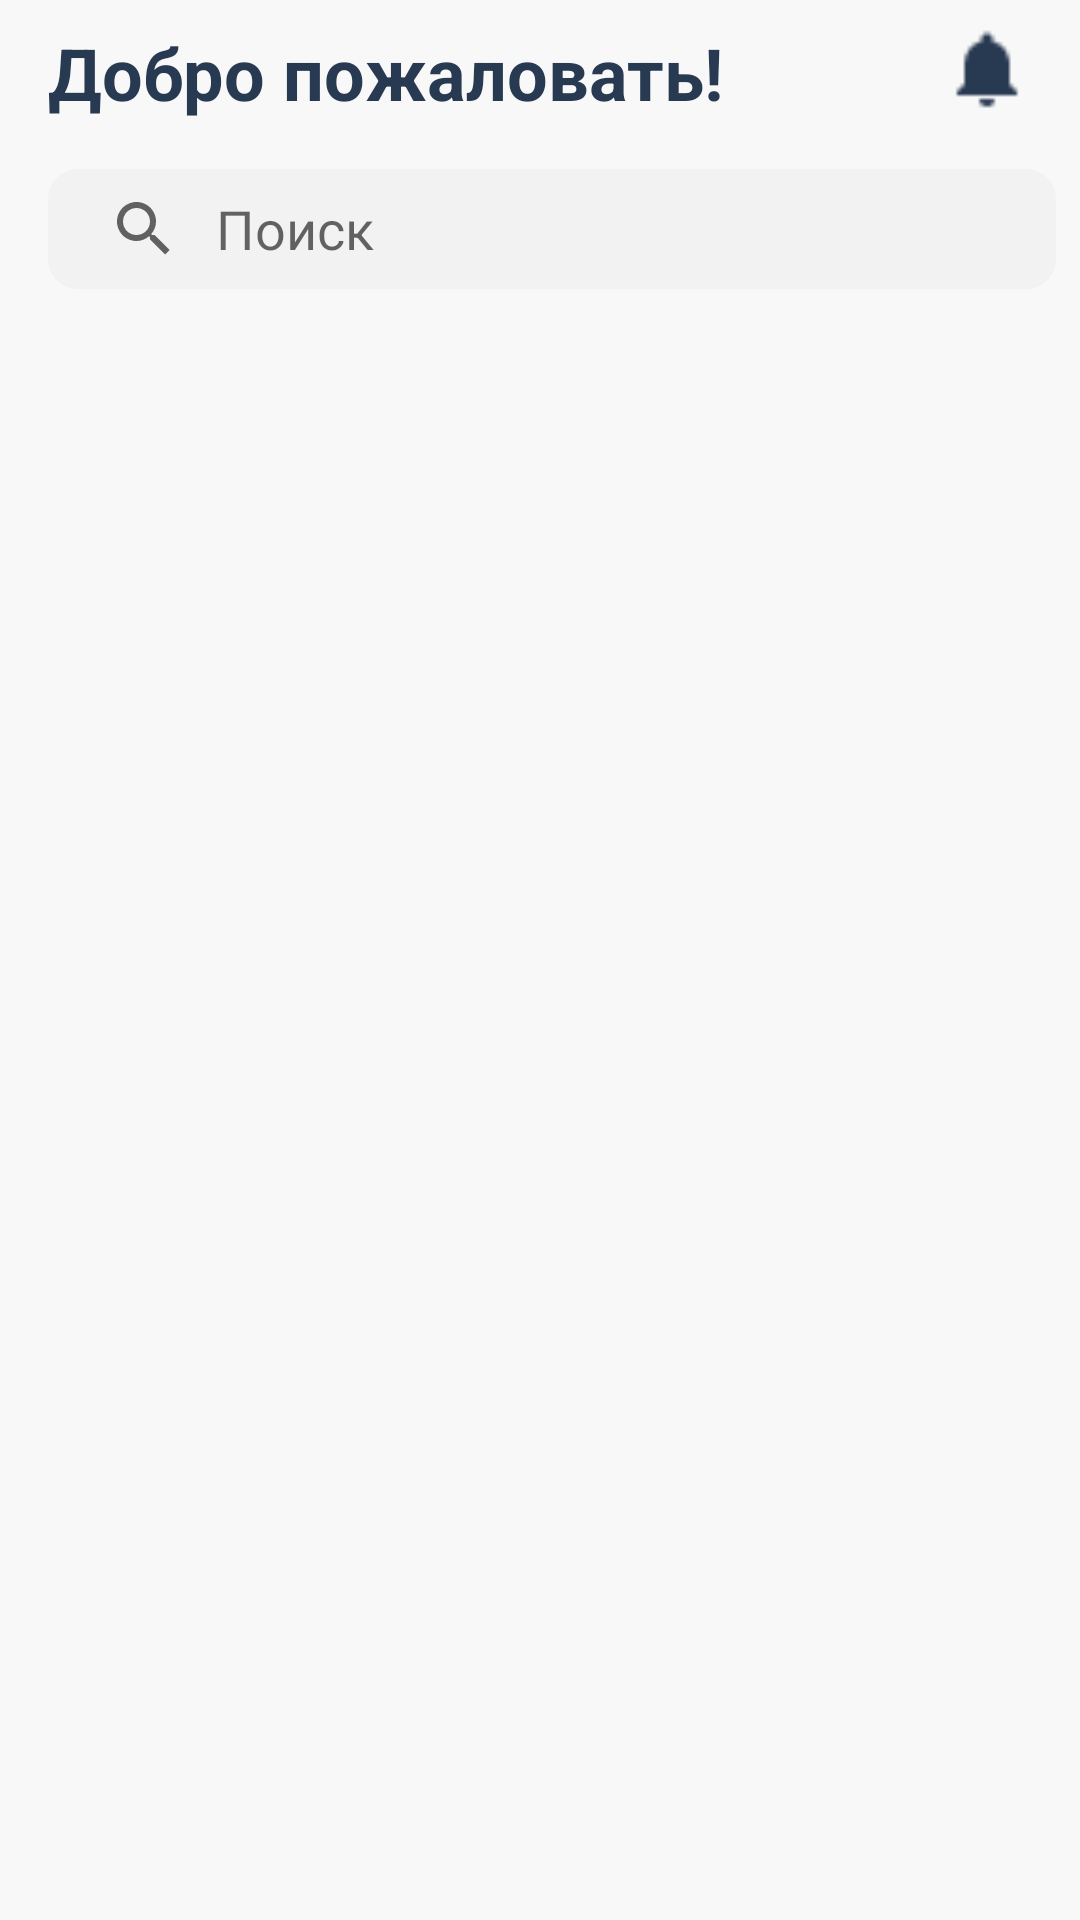

Where icons sit on this 1080 × 1920 app screen, as (x1, y1, x2, y2):
notif: (956, 31, 1018, 108)
